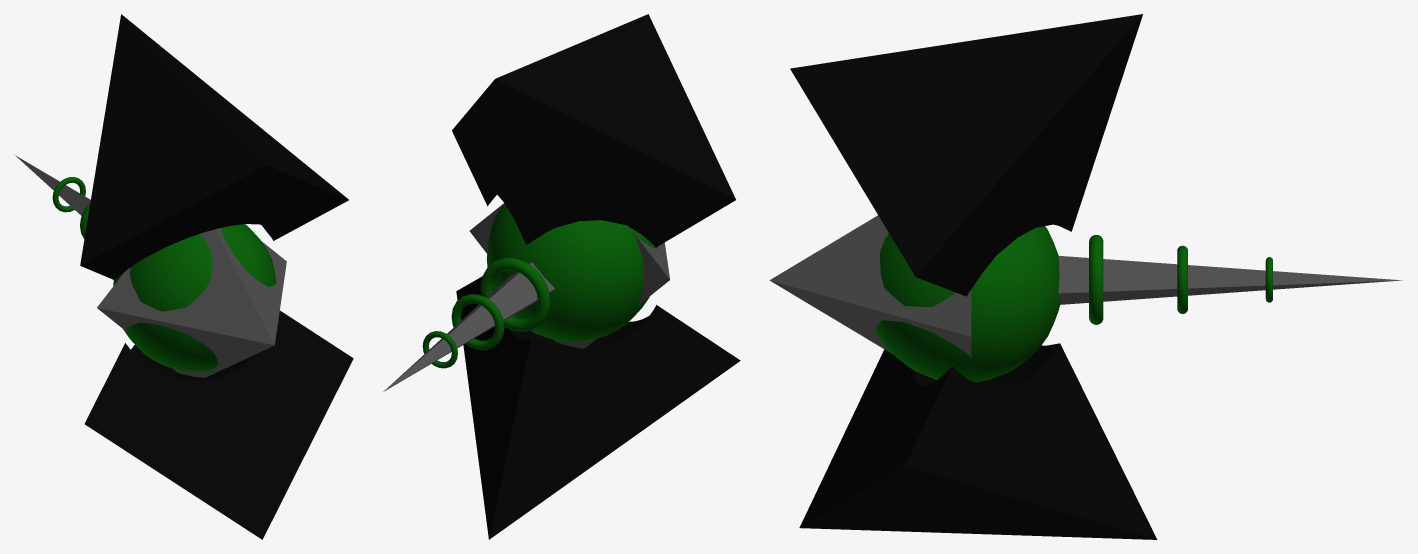
The model's file is enemyBeta.fbx.
The picture shows the model from 3 angles, left to right: view 1: azimuth 30°, elevation 25°; view 2: azimuth 150°, elevation 25°; view 3: azimuth 270°, elevation 25°; orthographic projection. The views are drawn at different scales.
Visible parts, largest first — view 1: pPyramid3, pPyramid4, pPyramid5, pSphere3, pPyramid6, pTorus3; view 2: pPyramid3, pPyramid4, pSphere3, pPyramid6, pPyramid5, pTorus1, pTorus2, pTorus3; view 3: pPyramid3, pPyramid4, pSphere3, pPyramid5, pPyramid6, pTorus1.
Part boxes in pixels (x1,y1,x2,y2): pPyramid3: (80,14,348,279); pPyramid4: (84,310,353,539); pPyramid5: (97,228,286,377); pSphere3: (113,224,276,371); pPyramid6: (15,155,90,215); pTorus3: (52,177,85,212); pPyramid3: (452,14,735,247); pPyramid4: (456,276,740,539); pSphere3: (486,203,657,342); pPyramid6: (383,262,554,391); pPyramid5: (469,203,669,348); pTorus1: (480,257,550,331); pTorus2: (451,294,504,350); pTorus3: (422,331,457,368); pPyramid3: (790,14,1142,296); pPyramid4: (799,343,1157,539); pSphere3: (875,226,1060,382); pPyramid5: (769,215,971,380); pPyramid6: (1058,256,1401,304); pTorus1: (1089,235,1103,324).
Bounding box in the file's own units: 2.27 × 3.47 × 3.8.
